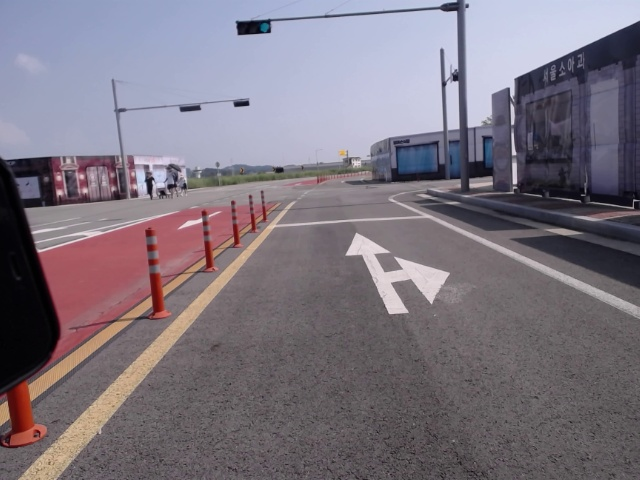green_3: (237, 20, 271, 35)
